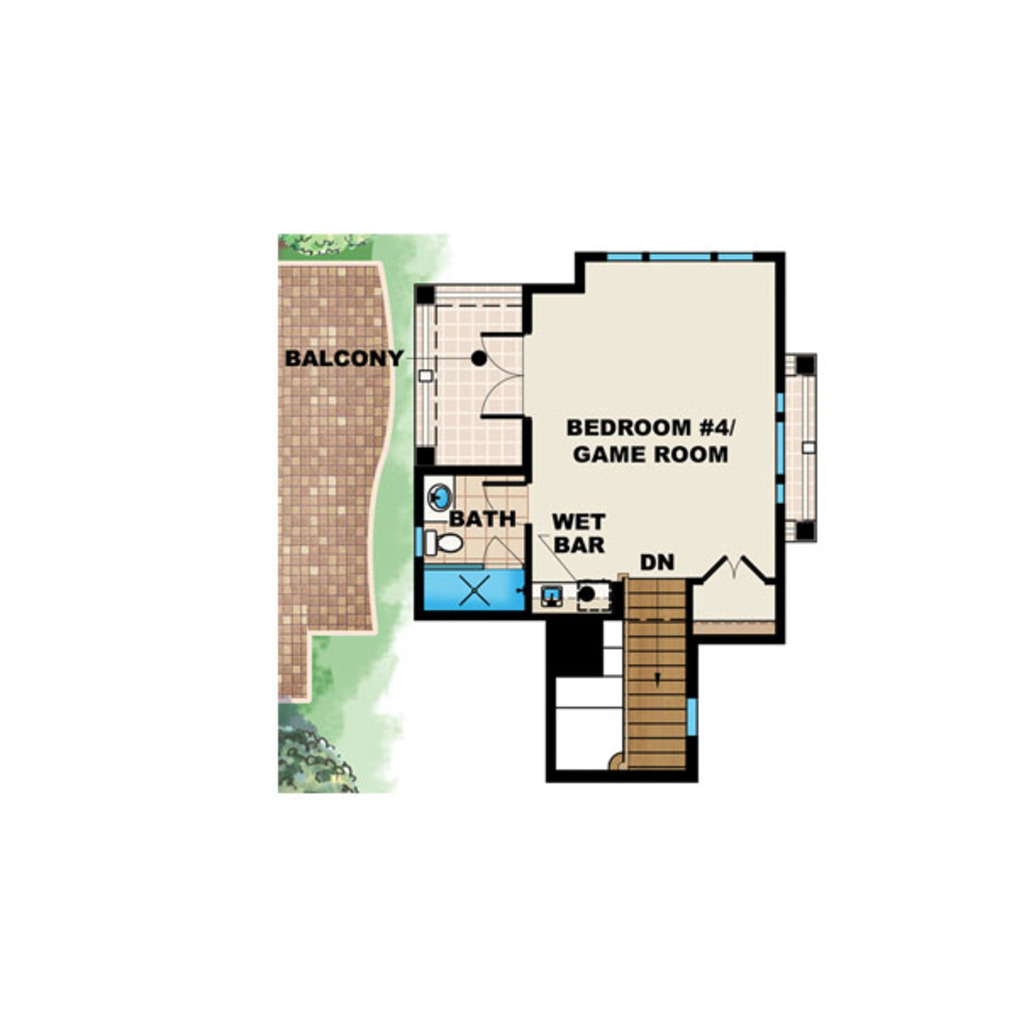door: (479, 328, 524, 416), (482, 479, 529, 525), (699, 554, 764, 587), (481, 537, 527, 568)
large_sink: (420, 526, 466, 560)
small_sink: (416, 473, 458, 523)
stairs: (615, 574, 693, 778)
windows: (601, 246, 756, 261), (771, 387, 789, 509)
